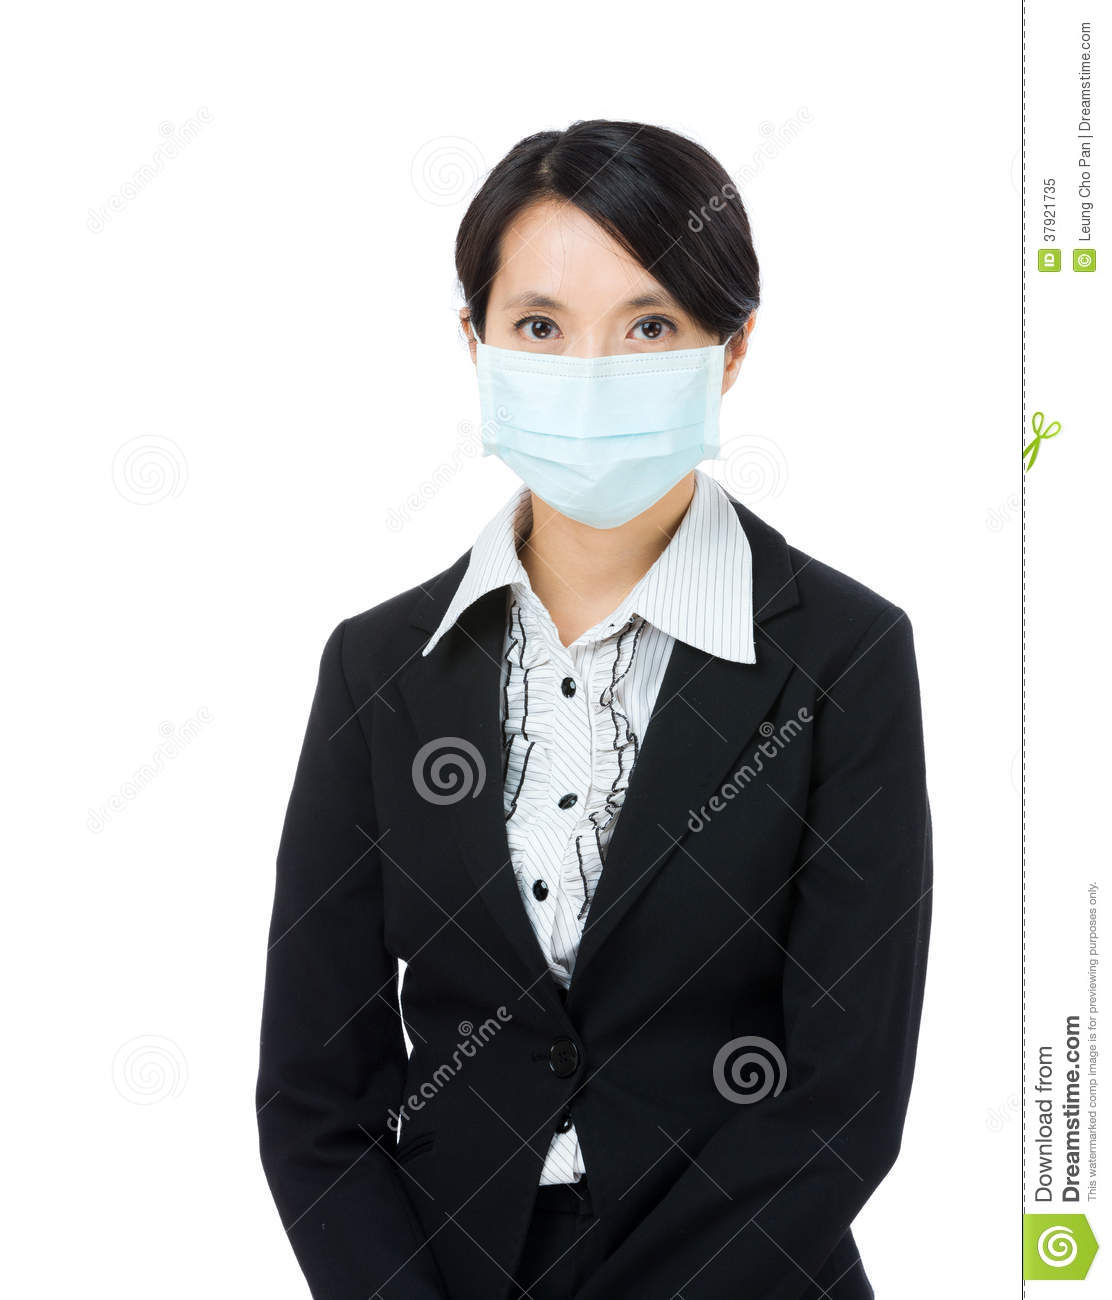mask: (475, 343, 728, 539)
